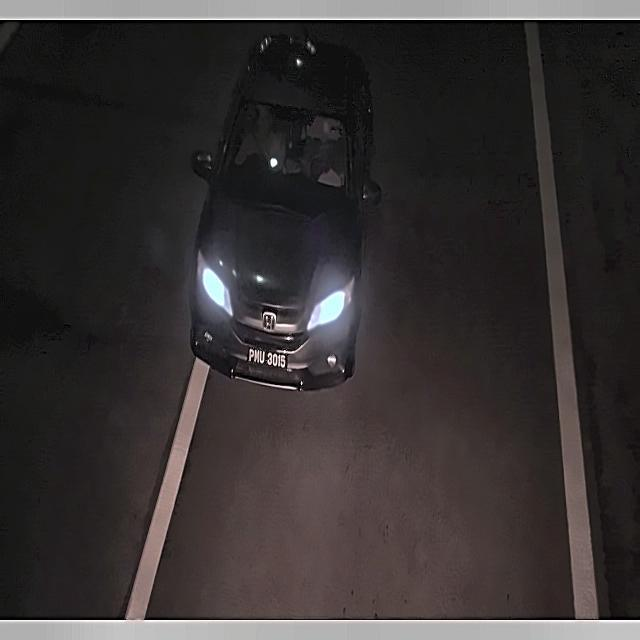car: (242, 343, 292, 375)
